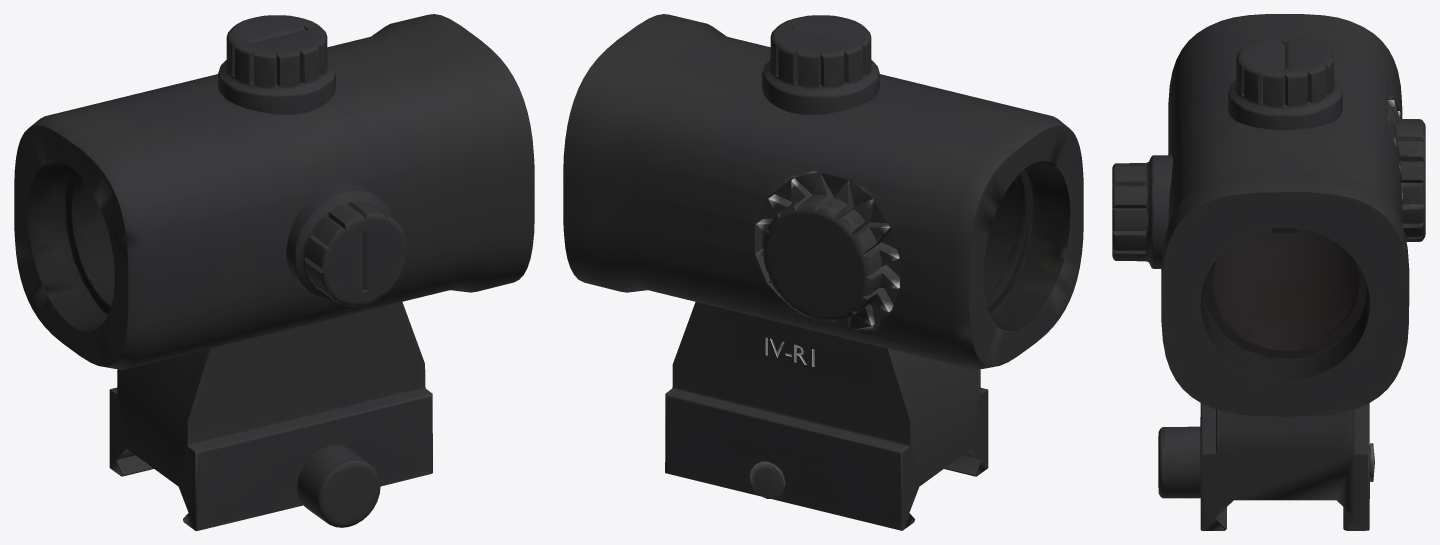
The model's file is IVR1_RedDot_LOD1.glb.
3 views of the same model, side by side, from view 1: azimuth 30°, elevation 25°; view 2: azimuth 150°, elevation 25°; view 3: azimuth 270°, elevation 25° (orthographic). The views are drawn at different scales.
Visible parts, largest first — view 1: SM_IVR1_RedDot_LOD1; view 2: SM_IVR1_RedDot_LOD1; view 3: SM_IVR1_RedDot_LOD1, IVR1_Glass_LOD1.
Part boxes in pixels (box(x1,y1,x2,y2)): SM_IVR1_RedDot_LOD1: box(14, 14, 534, 530); SM_IVR1_RedDot_LOD1: box(563, 14, 1083, 530); SM_IVR1_RedDot_LOD1: box(1112, 14, 1425, 530); IVR1_Glass_LOD1: box(1202, 228, 1363, 360).
Size of the model in its own units: 0.069 by 0.0739 by 0.0482.
3 materials, 1 textured.
